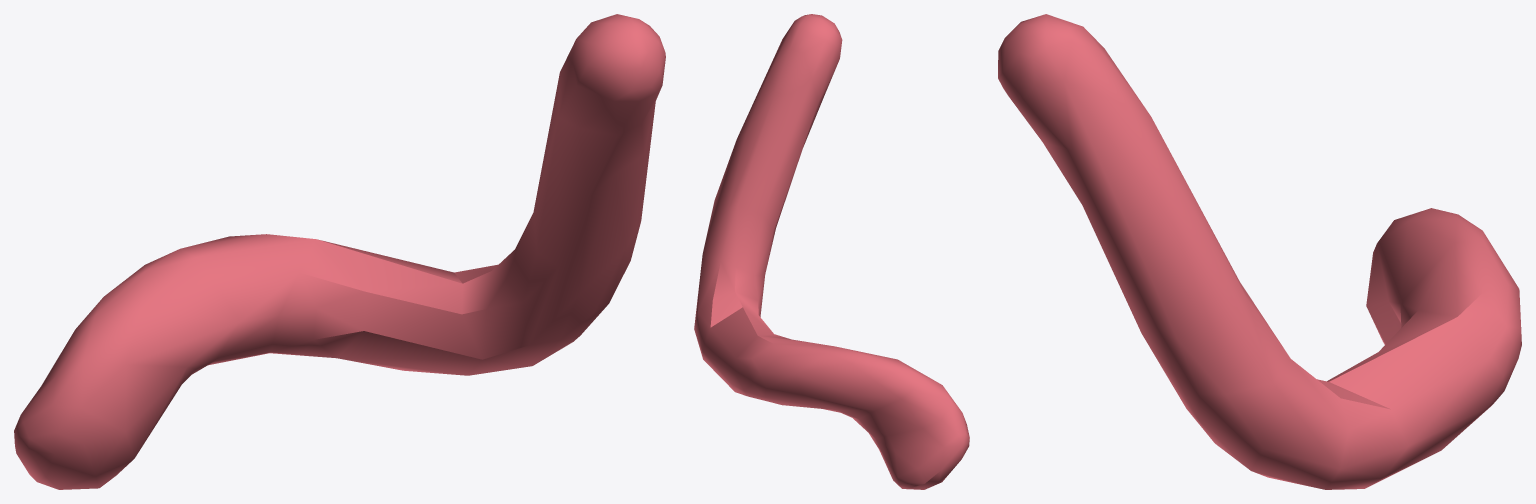
File: fma50029_fj1654.glb
3 renders of one model, left to right at view 1: azimuth 30°, elevation 25°; view 2: azimuth 150°, elevation 25°; view 3: azimuth 270°, elevation 25°, orthographic. The views are drawn at different scales.
Parts seen in each view (by area): view 1: FMA50029_FJ1654; view 2: FMA50029_FJ1654; view 3: FMA50029_FJ1654.
Boxes of the visible parts, left/top/right/bottom form: FMA50029_FJ1654: left=14, top=14, right=665, bottom=489; FMA50029_FJ1654: left=694, top=14, right=969, bottom=489; FMA50029_FJ1654: left=998, top=14, right=1521, bottom=489.
Bounding box in the file's own units: 0.0143 × 0.0141 × 0.0122.
